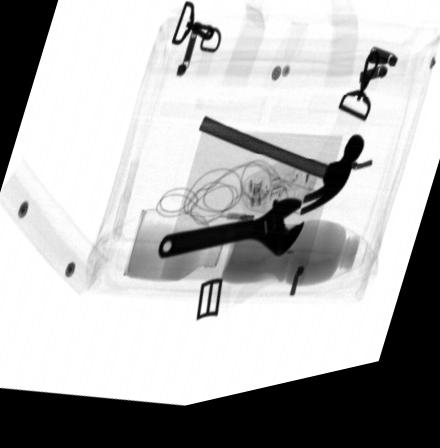Hammer: (197, 123, 363, 229)
Wrench: (158, 210, 306, 269)
